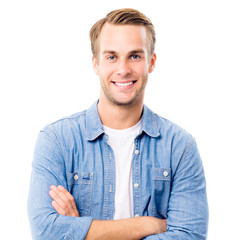young: (79, 6, 159, 106)
